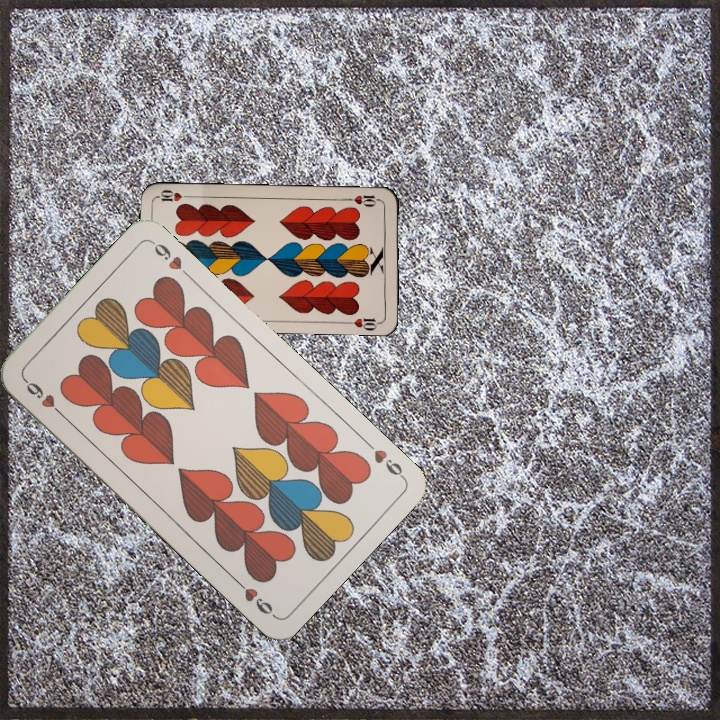H10: (343, 191, 384, 210)
H9: (19, 374, 67, 420), (360, 436, 407, 482)
